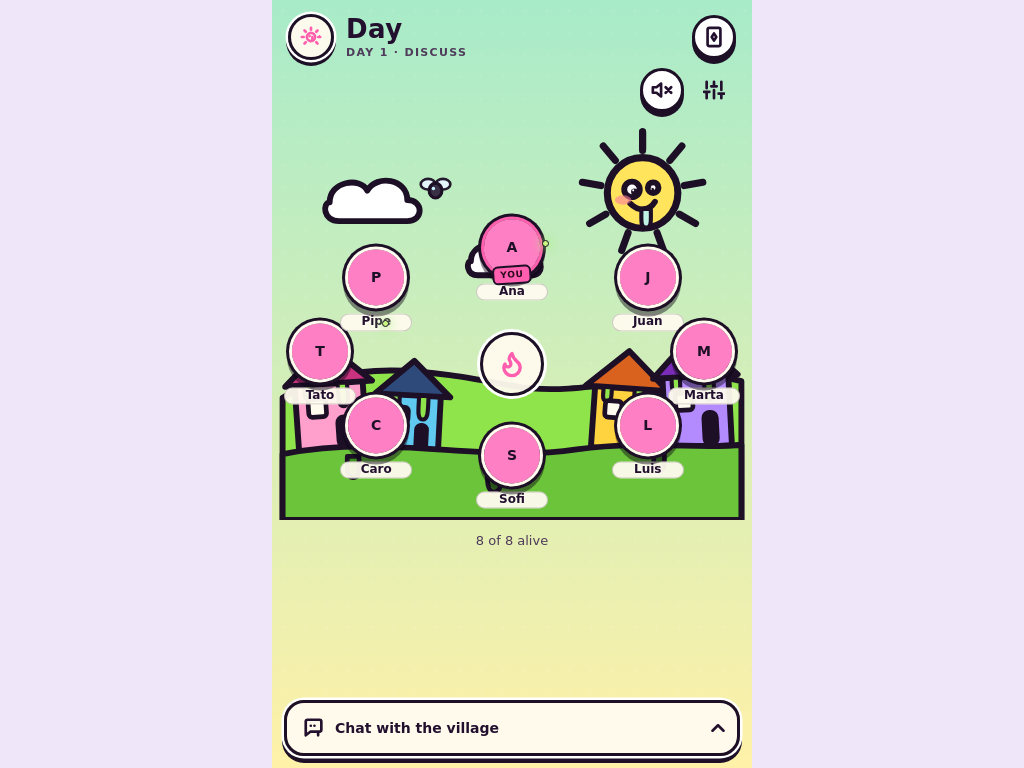
it: moderated messages › explains chat-too-fast
Click the button with class "chatbar" at [417, 728], box [284,700,740,756]
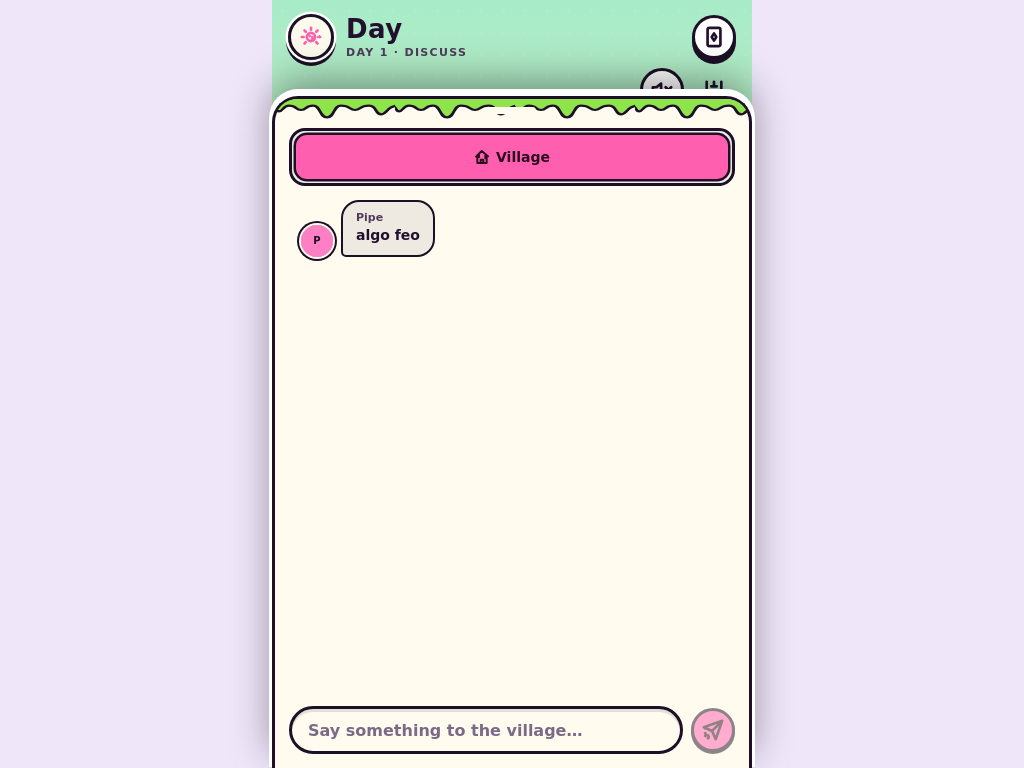
Type "hola" into the field with placeholder "Say something to the village…" at [486, 730], box [289,706,683,754]
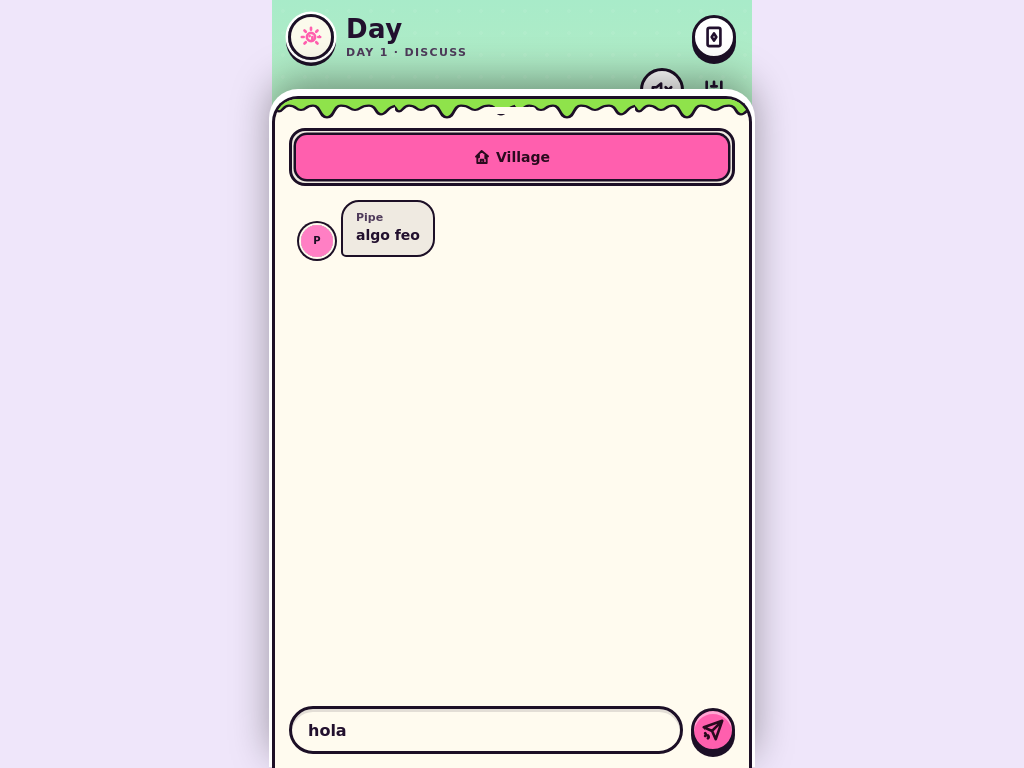
Submit the form with class "composer", box [289,706,735,754]
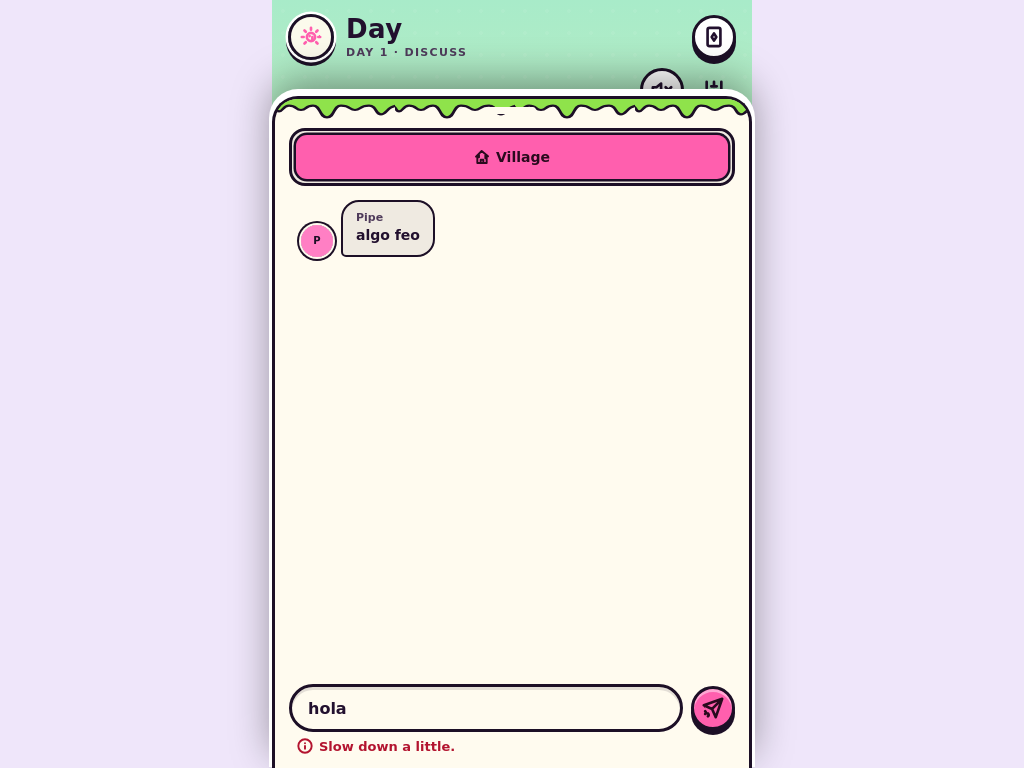
Check: the message with class "chat-composer-error" reads "Slow down a little.", box [319,738,455,754]
